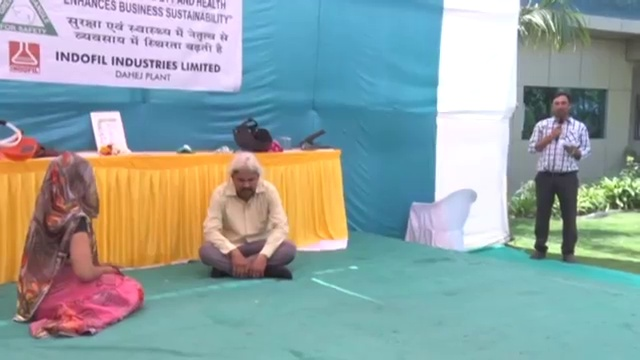helmet_off: (44, 154, 101, 215), (228, 152, 262, 200), (550, 93, 572, 121)
person: (15, 150, 146, 340), (197, 149, 297, 280), (526, 94, 591, 265)
